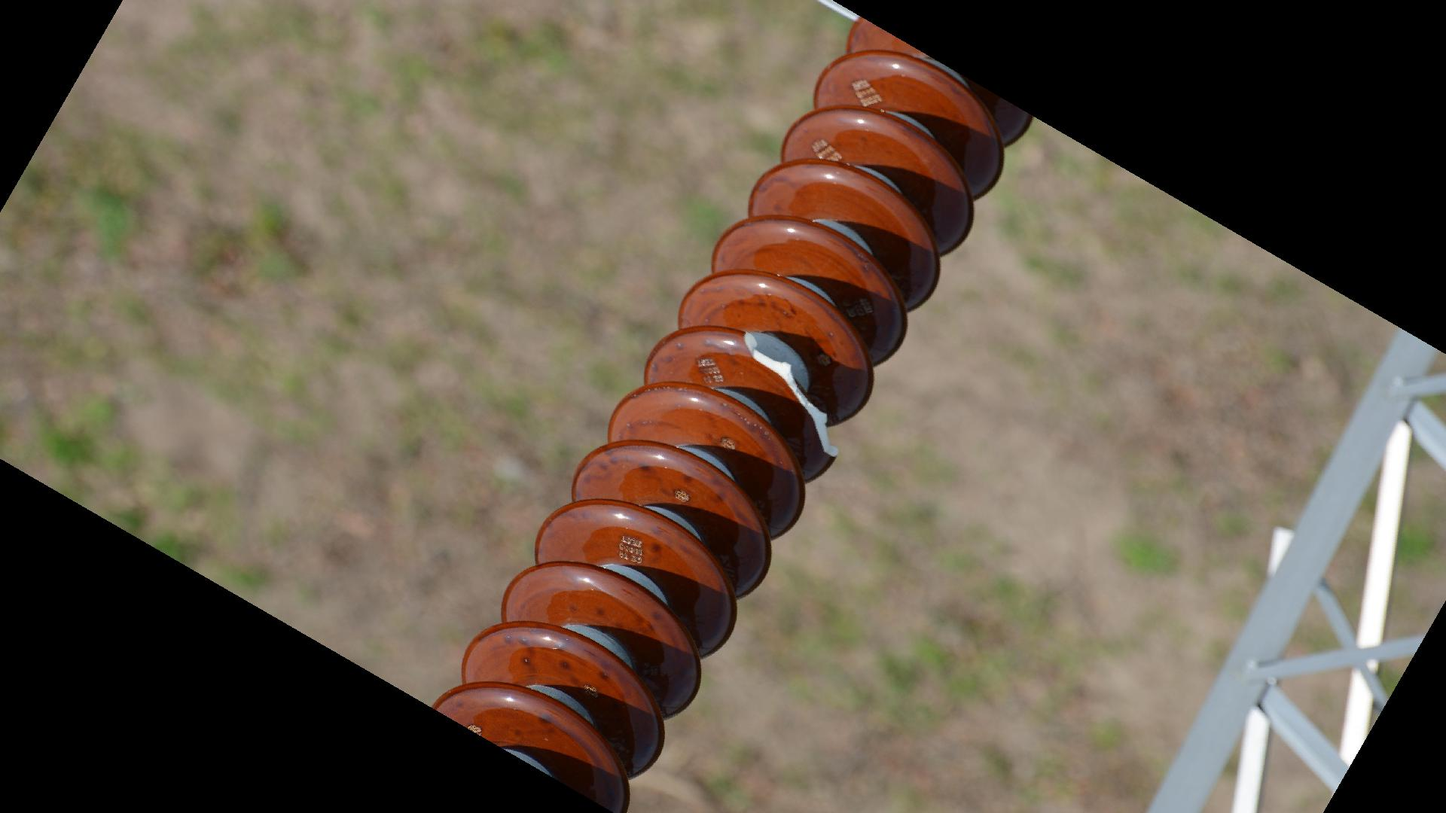insulator: (414, 10, 1038, 795)
insulator_breakage: (732, 327, 845, 470)
